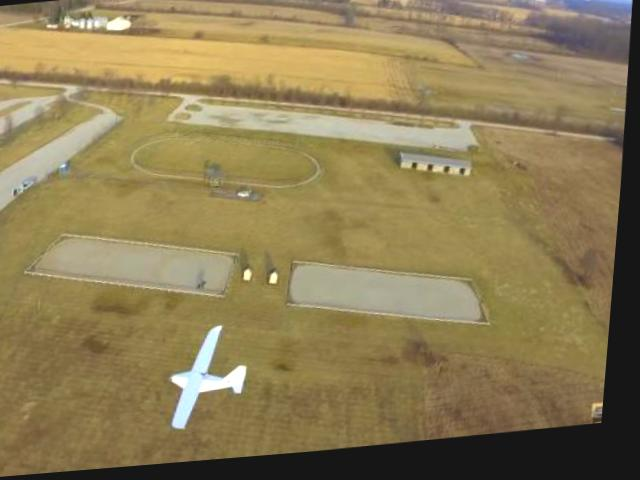uav: (160, 316, 264, 439)
